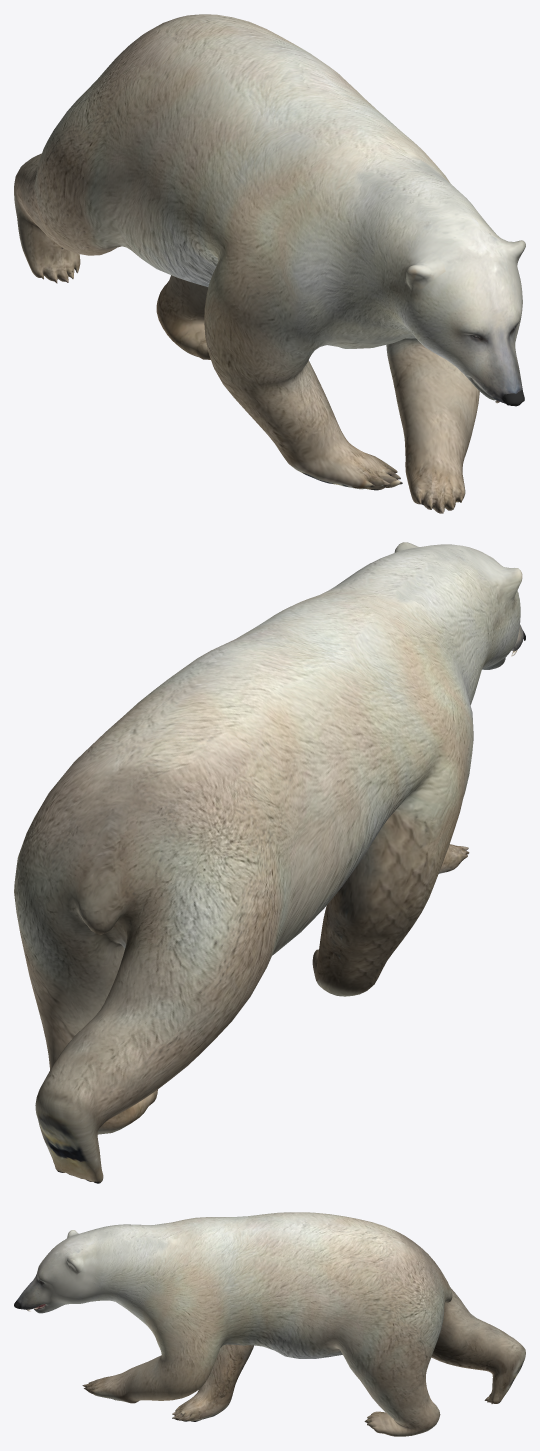
The model's file is polar_bear.glb.
3 renders of one model, top to bottom at view 1: azimuth 30°, elevation 25°; view 2: azimuth 150°, elevation 25°; view 3: azimuth 270°, elevation 25°, orthographic. The views are drawn at different scales.
Visible parts, largest first — view 1: MorphMainGroup; view 2: MorphMainGroup; view 3: MorphMainGroup.
Boxes of the visible parts, x1,y1,x2,y2 form: MorphMainGroup: (14,14,525,513); MorphMainGroup: (14,542,525,1183); MorphMainGroup: (14,1212,525,1436).
Bounding box in the file's own units: 0.7399 × 1.12 × 2.51.
1 material, 1 textured.
